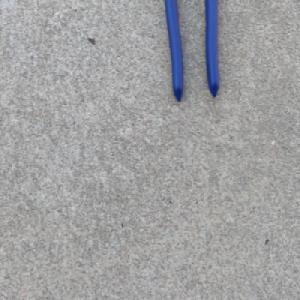Pliers: (164, 0, 222, 103)
